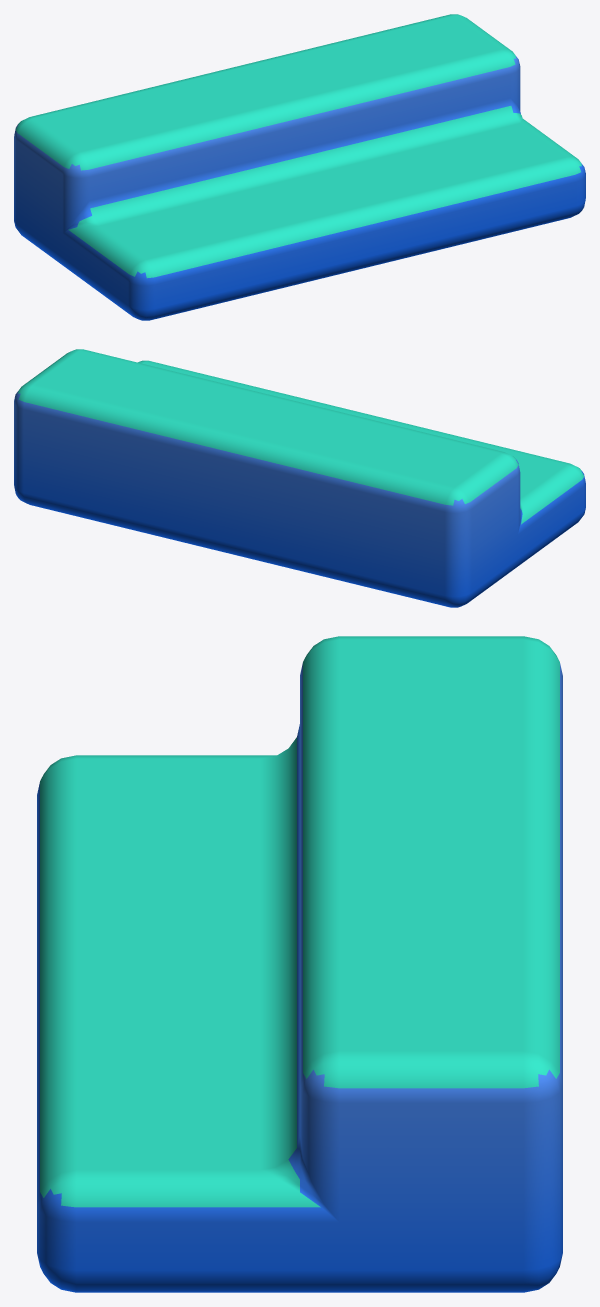
The model's file is stairs_4w_2steps.glb.
3 renders of one model, top to bottom at view 1: azimuth 30°, elevation 25°; view 2: azimuth 150°, elevation 25°; view 3: azimuth 270°, elevation 25°, orthographic. The views are drawn at different scales.
Parts seen in each view (by area): view 1: stairs_4w_2steps; view 2: stairs_4w_2steps; view 3: stairs_4w_2steps.
Part boxes in pixels (x1,y1,x2,y2): stairs_4w_2steps: [14, 14, 585, 320]; stairs_4w_2steps: [14, 349, 585, 607]; stairs_4w_2steps: [37, 636, 562, 1292].
Size of the model in its own units: 4 by 1 by 2.
Materials: 1 (1 with a texture image).
